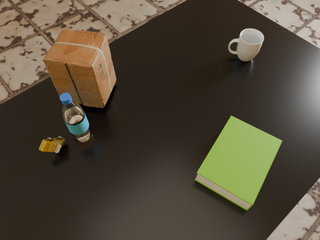book: (195, 116, 282, 211)
bottle: (60, 93, 92, 142)
box: (43, 30, 116, 108)
cup: (228, 29, 264, 61)
toy_car: (39, 136, 65, 153)
